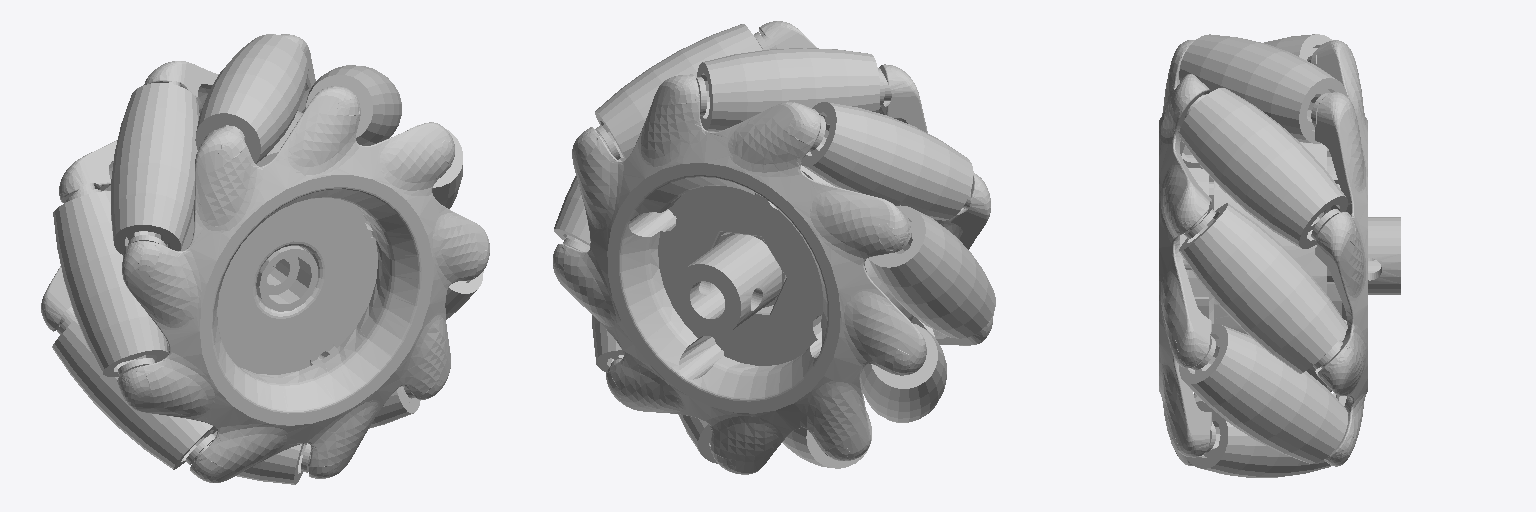
File: back_right_wheel.obj
3 views of the same model, side by side, from view 1: azimuth 30°, elevation 25°; view 2: azimuth 150°, elevation 25°; view 3: azimuth 270°, elevation 25° (orthographic).
Size of the model in its own units: 0.0646 by 0.0646 by 0.0352.